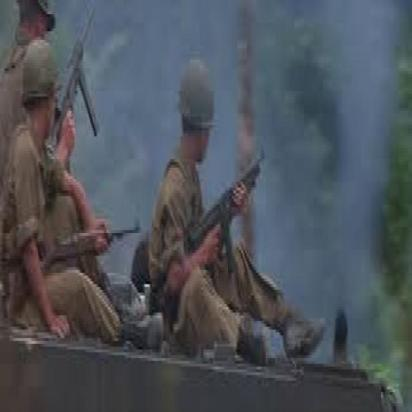Gun: (6, 213, 144, 319), (184, 138, 270, 288), (51, 4, 99, 168)
